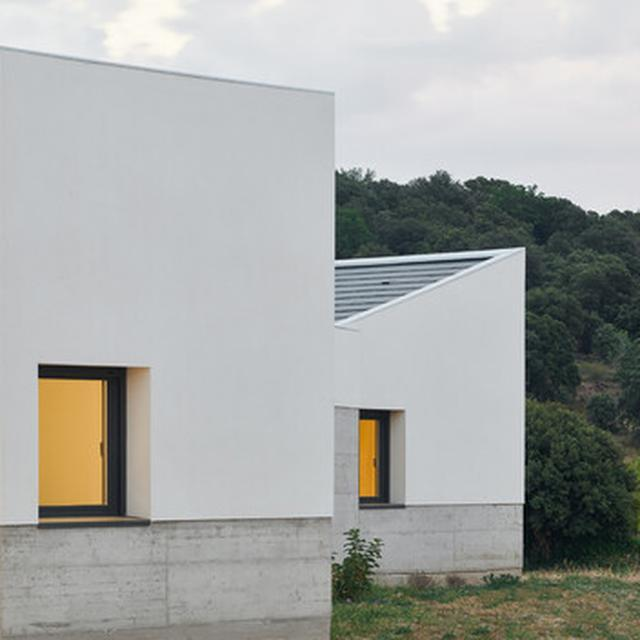building: (0, 43, 526, 624)
